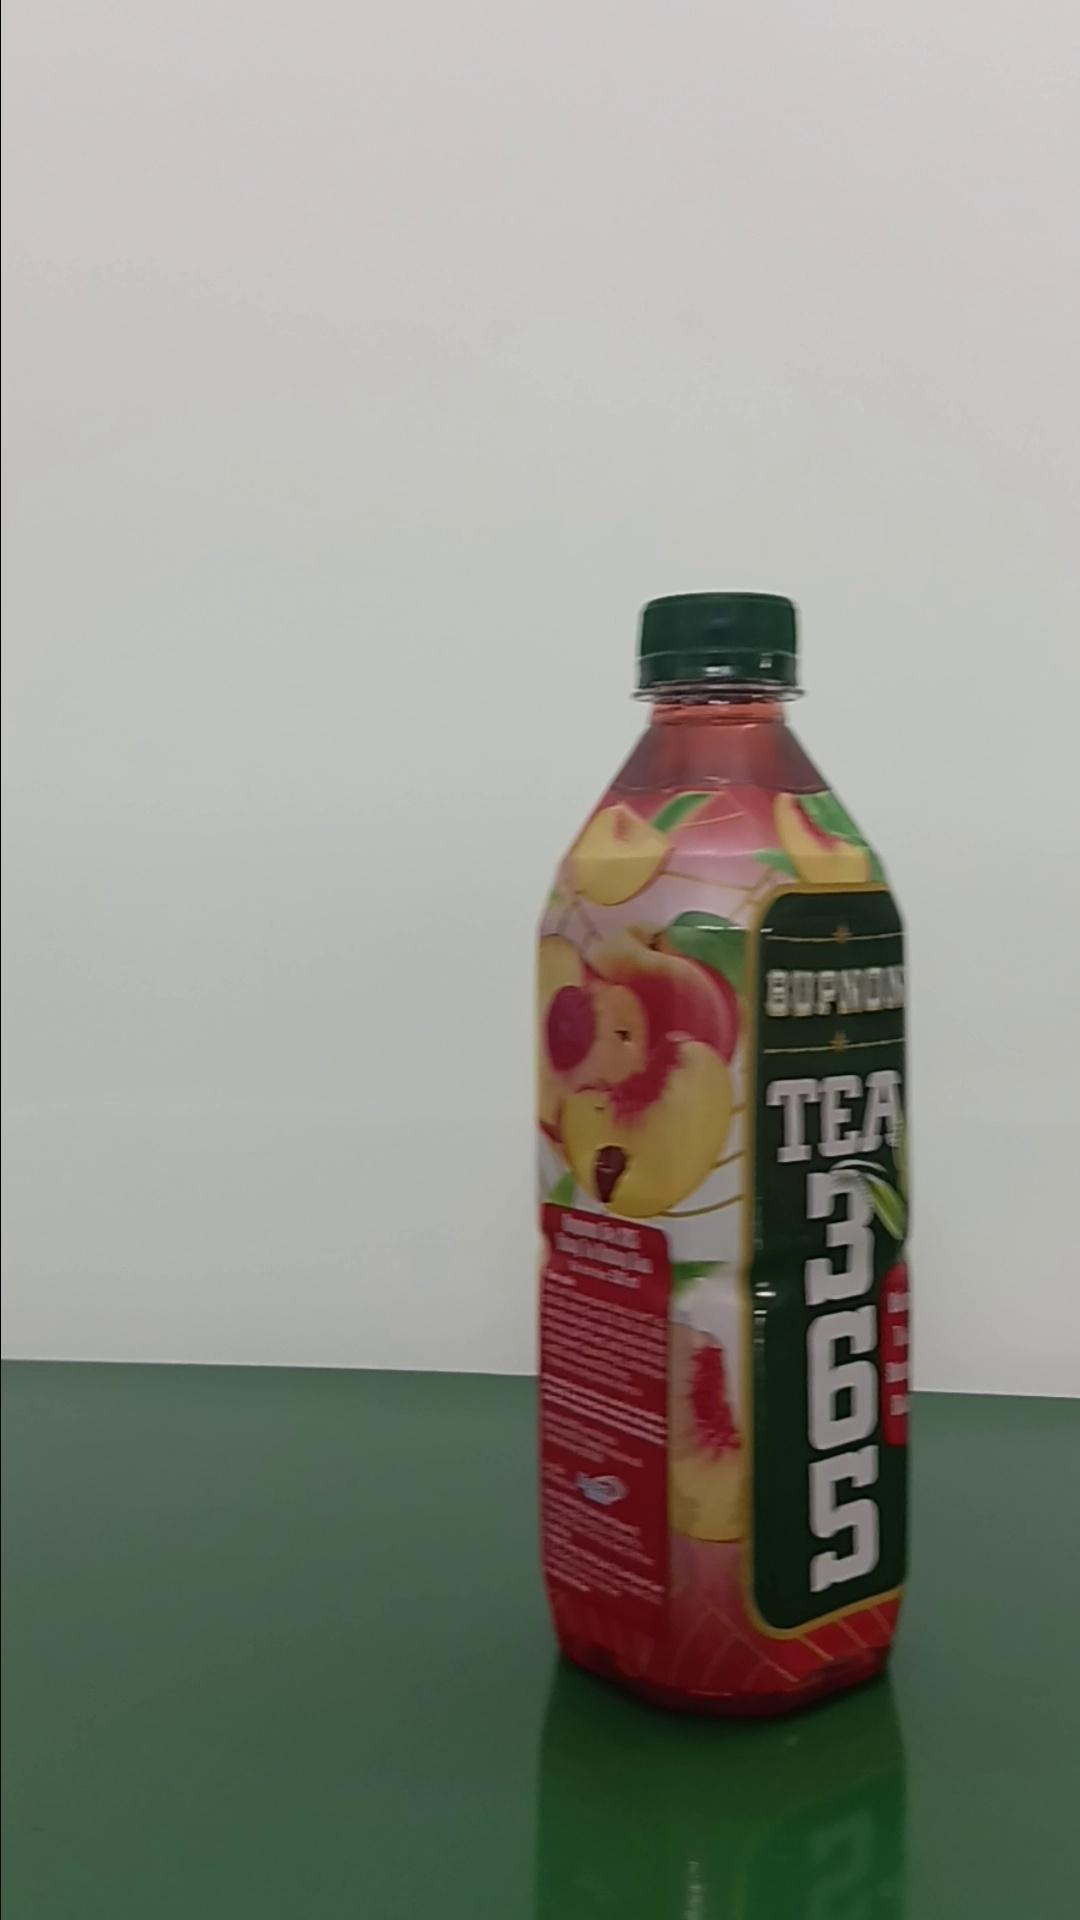loi rach va lap chai: (531, 588, 918, 1717)
